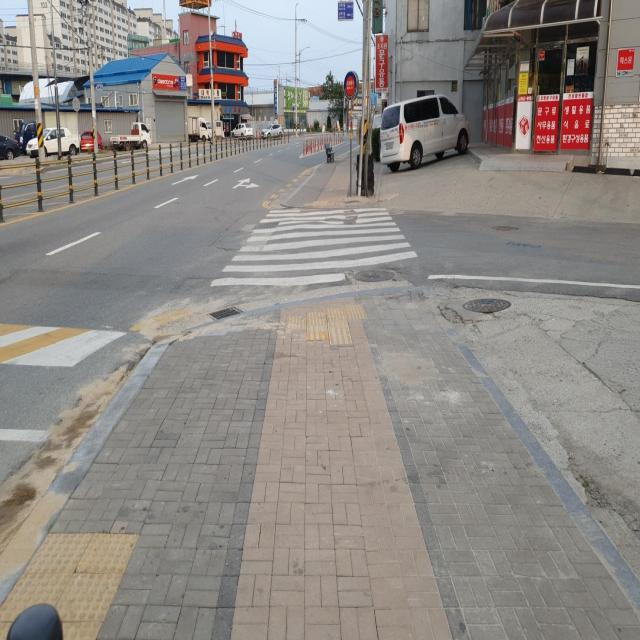횡단보도: (210, 205, 418, 289)
